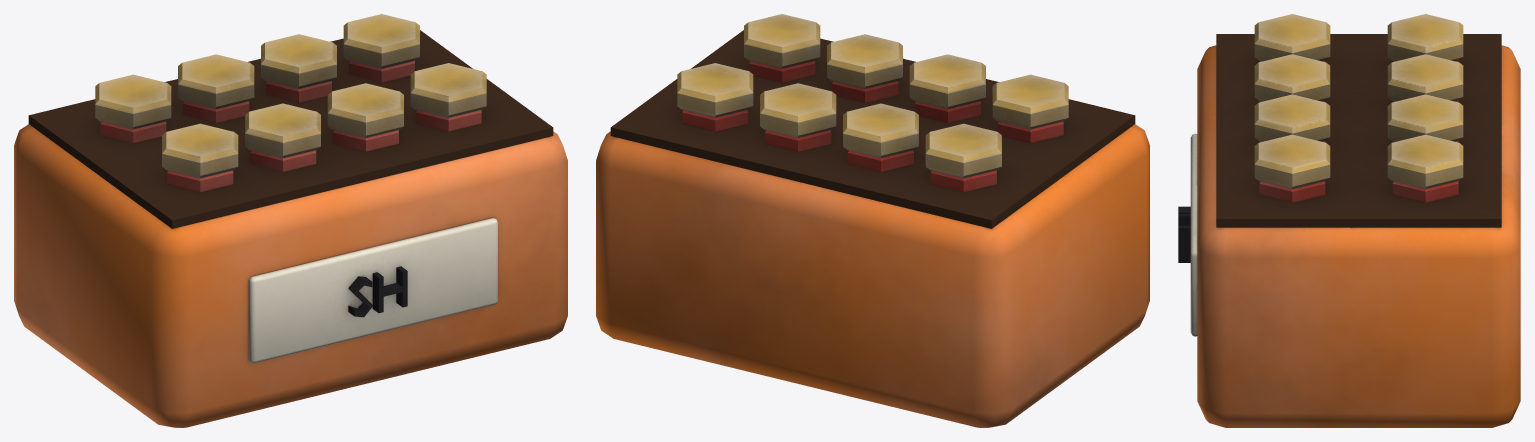
File: ammo_shells.fbx
3 views of the same model, side by side, from view 1: azimuth 30°, elevation 25°; view 2: azimuth 150°, elevation 25°; view 3: azimuth 270°, elevation 25° (orthographic).
Parts seen in each view (by area): view 1: Body; view 2: Body; view 3: Body.
Part boxes in pixels (x1=…): Body: x1=14, y1=14, x2=567, y2=427; Body: x1=596, y1=14, x2=1149, y2=427; Body: x1=1178, y1=14, x2=1520, y2=427.
Size of the model in its own units: 0.5 by 0.2875 by 0.36.
Materials: 1 (1 with a texture image).
